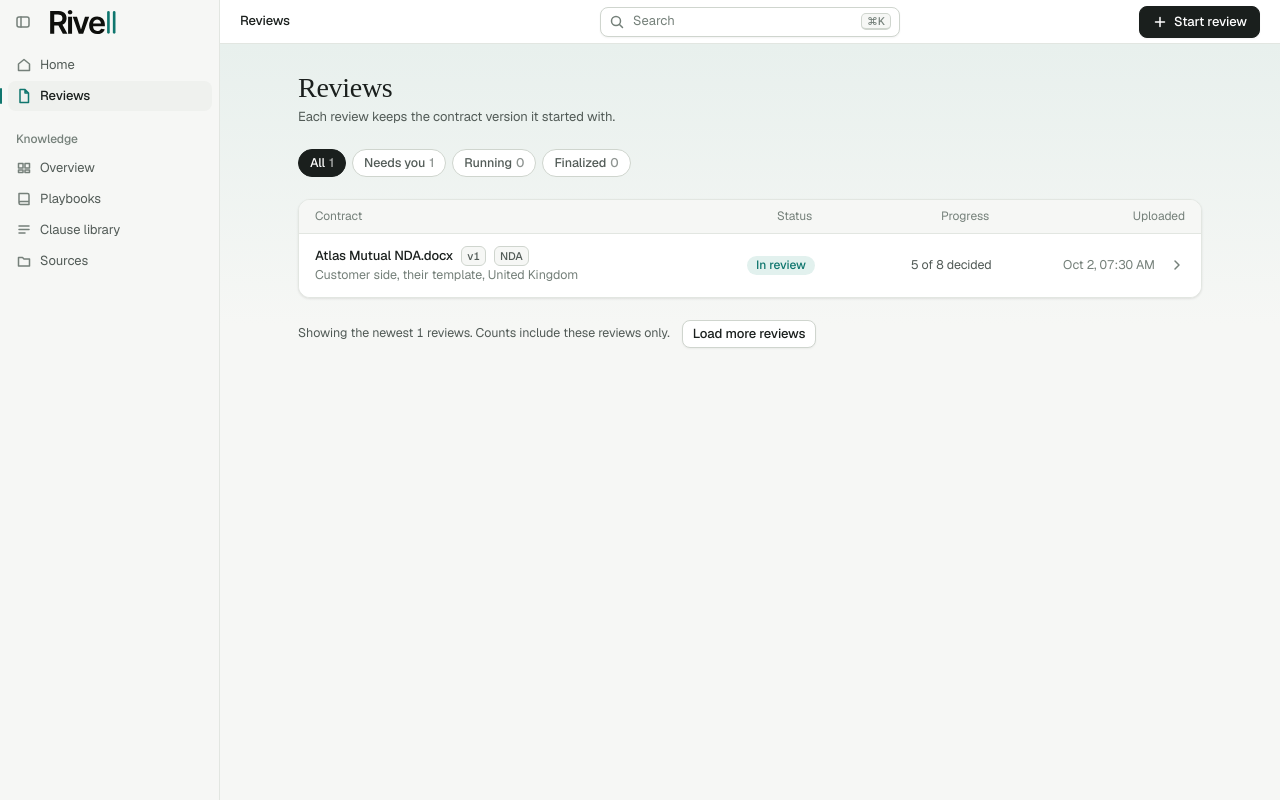
Reviews page › keeps loaded rows and offers a retry when a later page fails
This screenshot has width=1280, height=800.
What coordinates should you click on to do the following:
click the button "Load more reviews"
I would click on:
 (749, 334)
Its box is [682,320,816,348].
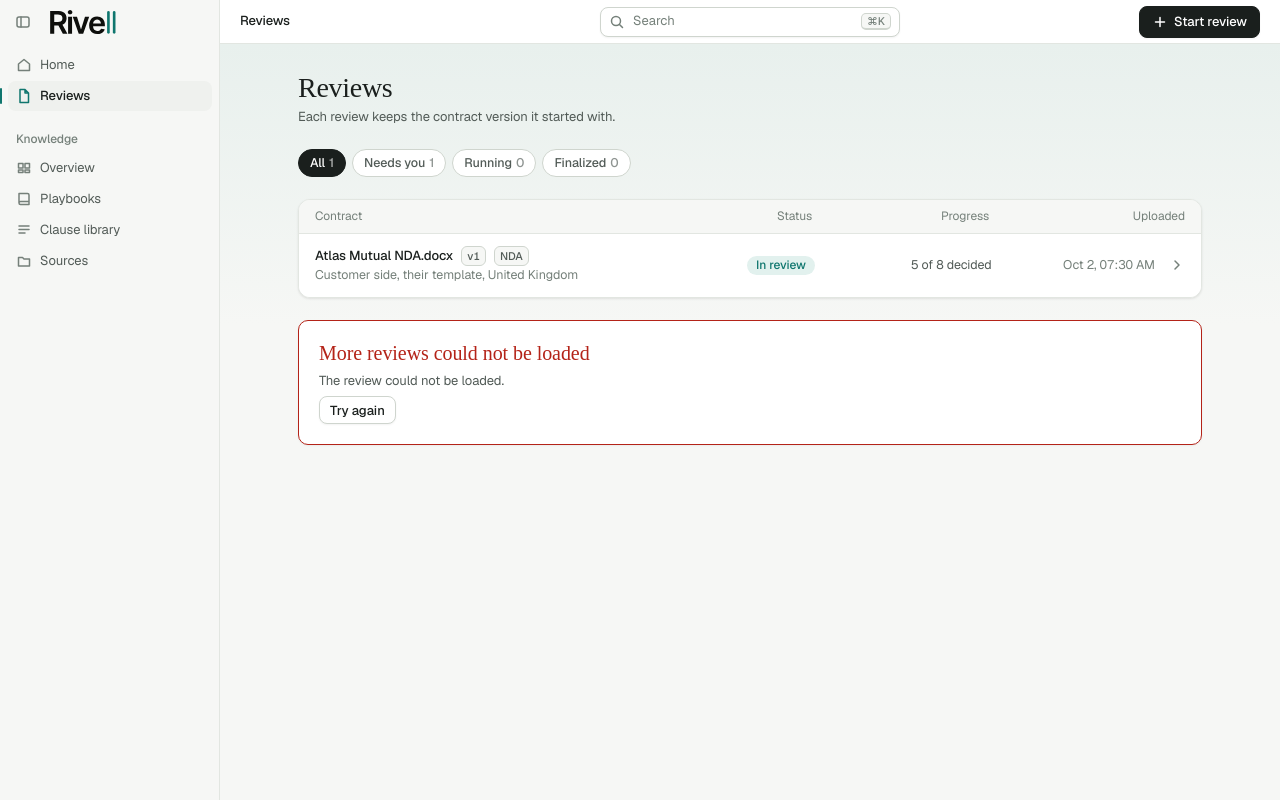
Expected: the link "Atlas Mutual NDA.docx" is shown, [299,234,1201,296]
Expected: the heading "More reviews could not be loaded" is shown, [319,340,590,366]
